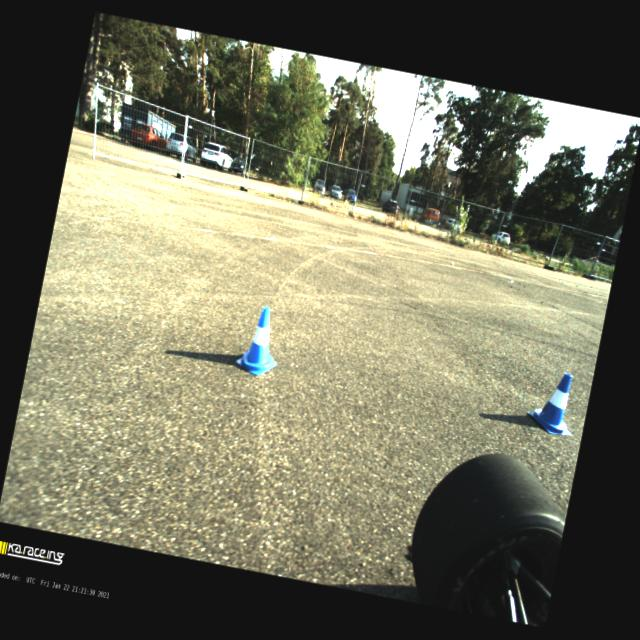blue_cone: (524, 368, 582, 438), (234, 303, 287, 379)
